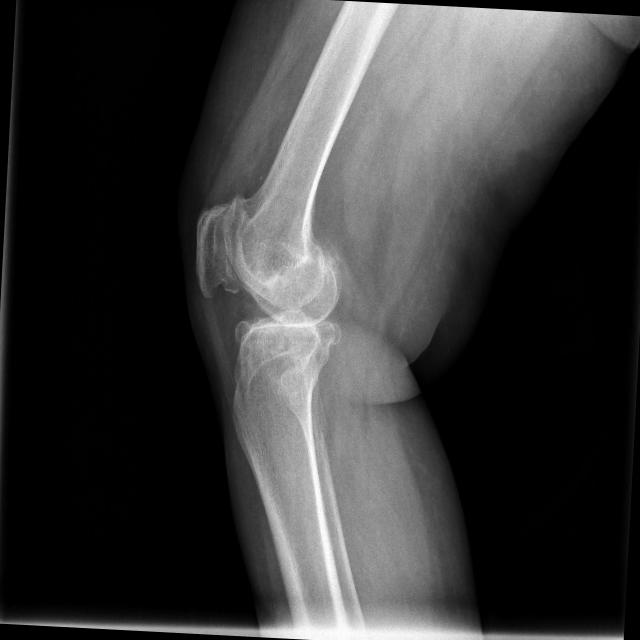Knee: (183, 186, 348, 400)
